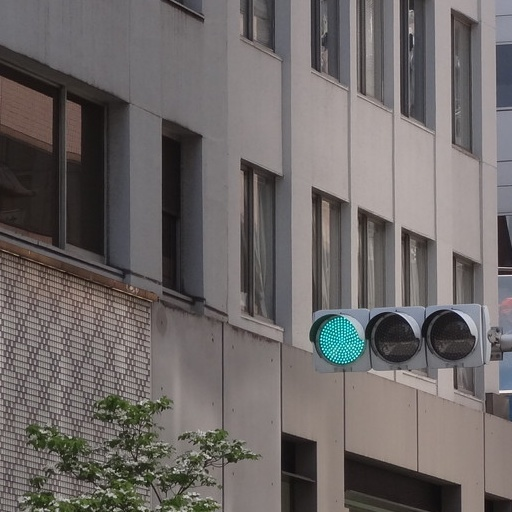Traffic_Signal_Blue: (308, 305, 490, 371)
